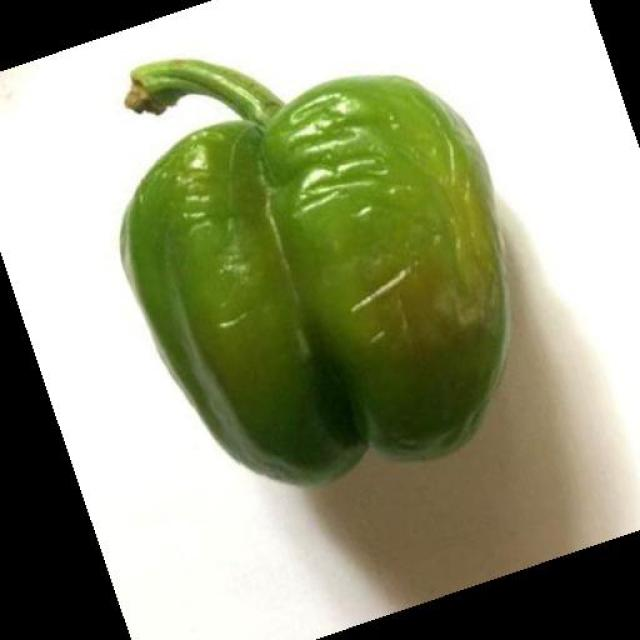Stale_Capsicum: (99, 34, 533, 495)
